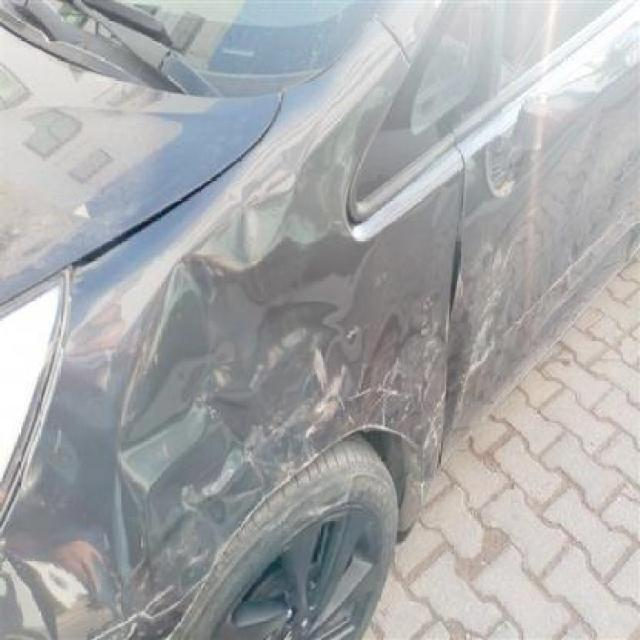car damage: (119, 224, 377, 522), (483, 92, 590, 215), (0, 532, 119, 640), (203, 186, 297, 280), (98, 455, 161, 573)
